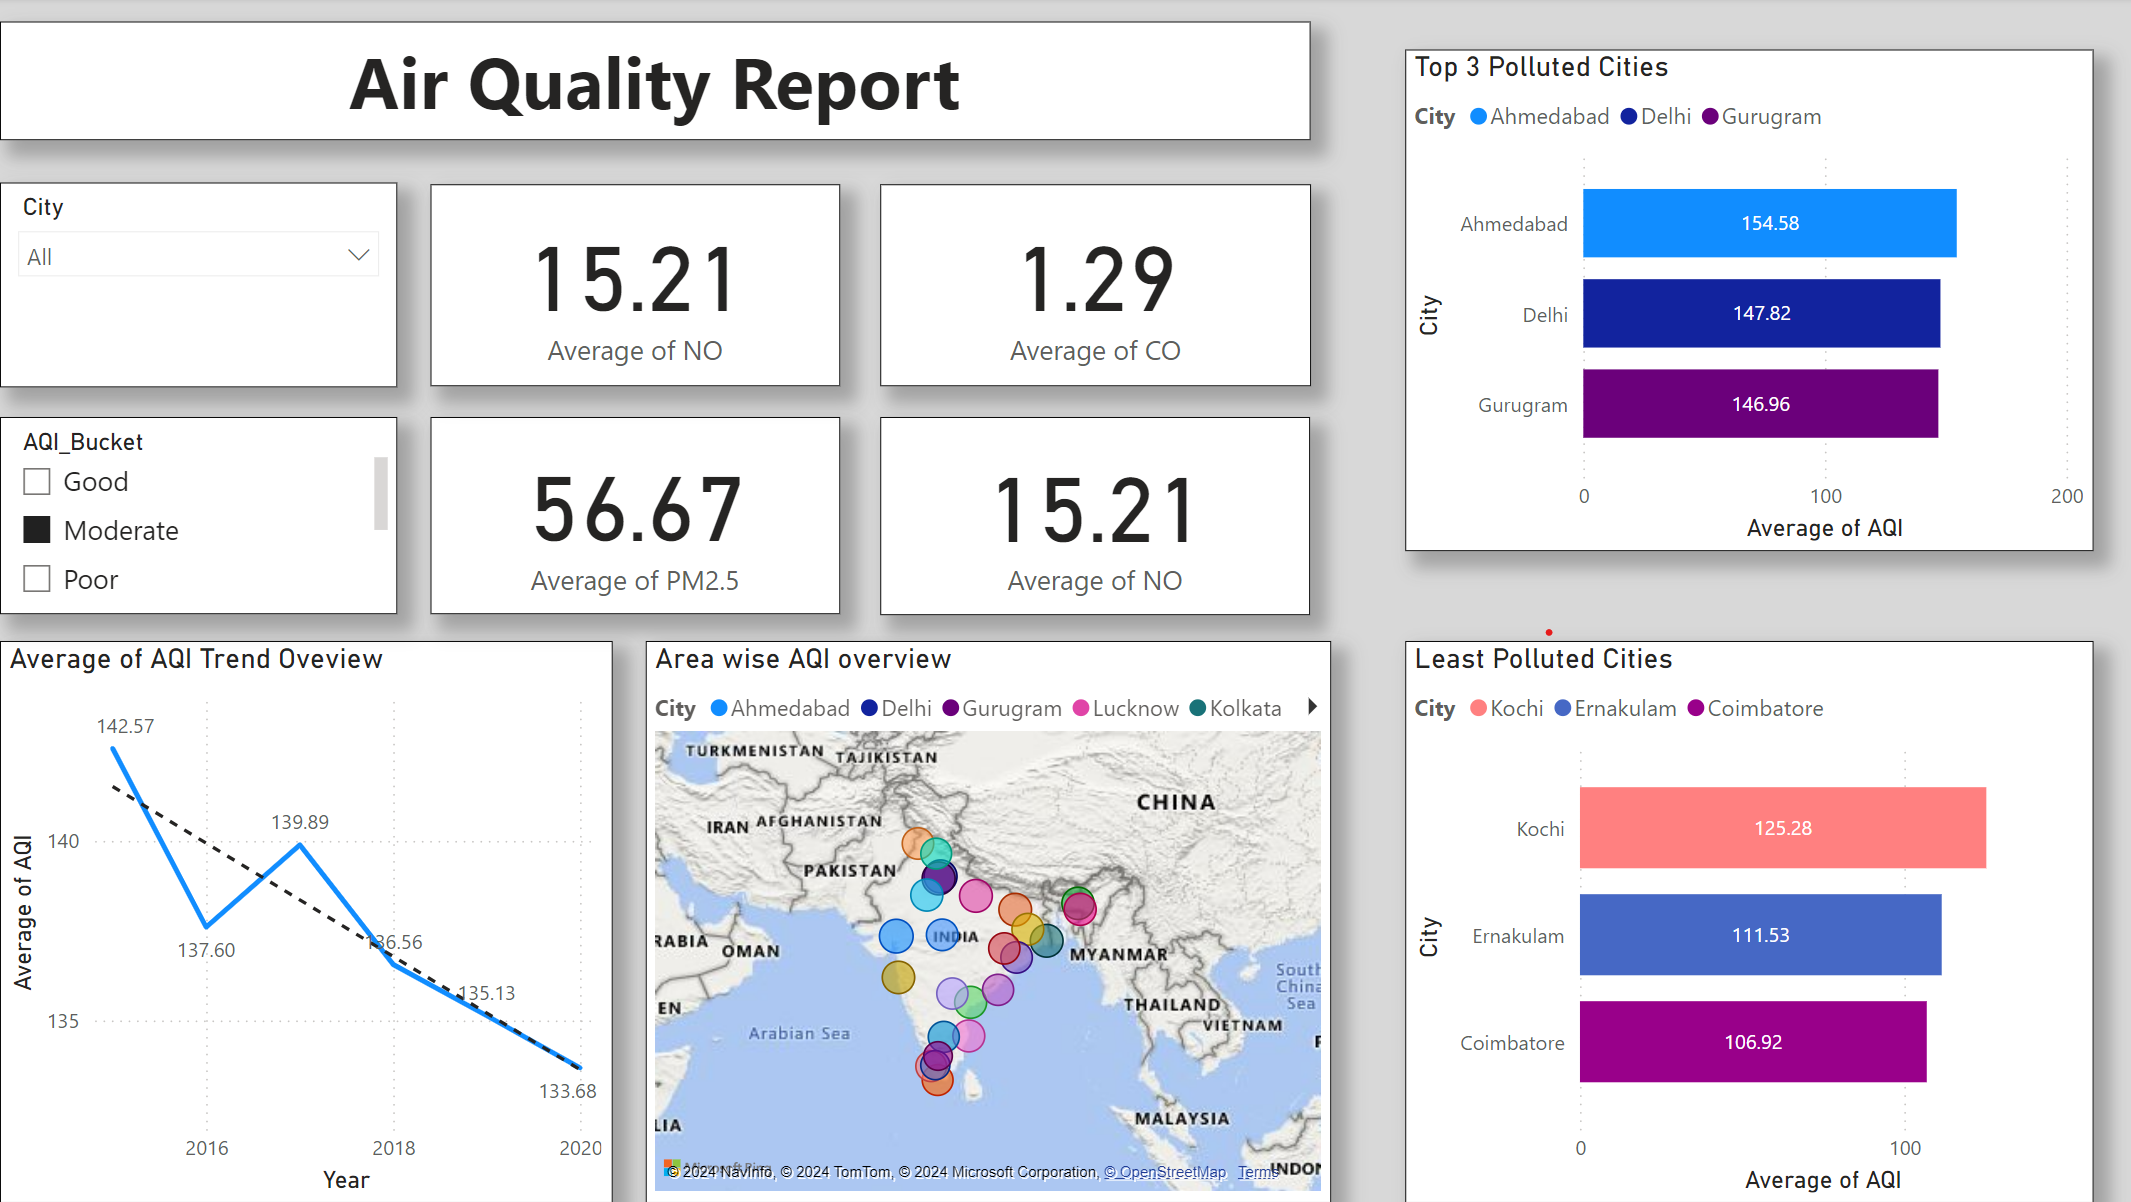

Layout of this report page (visuals, bound fields, positions):
{"tool":"powerbi","page":{"name":"Page 1","canvas":[1280,720],"ordinal":0},"visuals":[{"type":"lineChart","title":"Average of AQI Trend Oveview","fields":{"Category":["city_day.Date.Variation.Date Hierarchy.Year","city_day.Date.Variation.Date Hierarchy.Quarter","city_day.Date.Variation.Date Hierarchy.Month","city_day.Date.Variation.Date Hierarchy.Day"],"Y":["Avg(city_day.AQI)"]},"box":[0,384.3,365.5,335.7],"z":0},{"type":"slicer","fields":{"Values":["city_day.City"]},"box":[0,110.6,237,122.5],"z":1000},{"type":"barChart","title":"Top 3 Polluted  Cities","fields":{"Category":["city_day.City"],"Y":["Avg(city_day.AQI)"],"Series":["city_day.City"]},"box":[839.2,31.4,411,299.6],"z":2000},{"type":"barChart","title":"Least Polluted Cities","fields":{"Category":["city_day.City"],"Y":["Avg(city_day.AQI)"],"Series":["city_day.City"]},"box":[839.2,384.3,411,335.7],"z":3000},{"type":"card","fields":{"Values":["Avg(city_day.PM2.5)"]},"box":[257.3,251,244.7,117.6],"z":4000},{"type":"card","fields":{"Values":["Avg(city_day.CO)"]},"box":[525.5,111.4,257.3,120.8],"z":5000},{"type":"card","fields":{"Values":["Avg(city_day.NO)"]},"box":[257.3,111.4,244.7,120.8],"z":6000},{"type":"card","fields":{"Values":["Avg(city_day.NO)"]},"box":[525.4,250.9,256.8,118.5],"z":7000},{"type":"map","title":"Area wise AQI overview","fields":{"Category":["city_day.City"],"Size":["Avg(city_day.AQI)"],"Series":["city_day.City"]},"box":[385.9,384.3,409.4,335.7],"z":8000},{"type":"slicer","fields":{"Values":["city_day.AQI_Bucket"]},"box":[0,251,236.9,117.6],"z":9000},{"type":"textbox","box":[0,14.6,782.4,71],"z":10000}]}

Visuals, with their boxes in screenshot pixels (x1, y1, x2, y2), scaled from the page's 1280x720 canvas onto the 2131x1202 screenshot:
"Average of AQI Trend Oveview" lineChart: select_region(0, 642, 609, 1201)
slicer - city_day.City: select_region(0, 185, 395, 389)
"Top 3 Polluted  Cities" barChart: select_region(1397, 52, 2081, 553)
"Least Polluted Cities" barChart: select_region(1397, 642, 2081, 1201)
card - Avg(city_day.PM2.5): select_region(428, 419, 836, 615)
card - Avg(city_day.CO): select_region(875, 186, 1303, 388)
card - Avg(city_day.NO): select_region(428, 186, 836, 388)
card - Avg(city_day.NO): select_region(875, 419, 1302, 617)
"Area wise AQI overview" map: select_region(642, 642, 1324, 1201)
slicer - city_day.AQI_Bucket: select_region(0, 419, 394, 615)
textbox: select_region(0, 24, 1303, 143)
